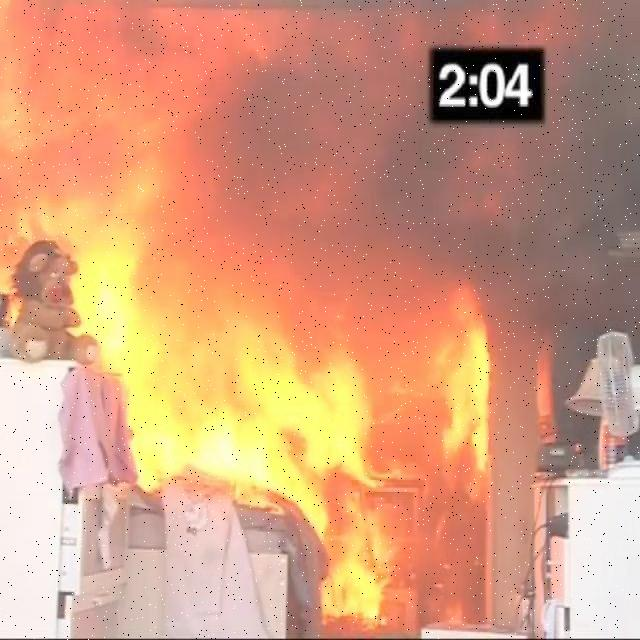fire: (34, 199, 500, 632)
